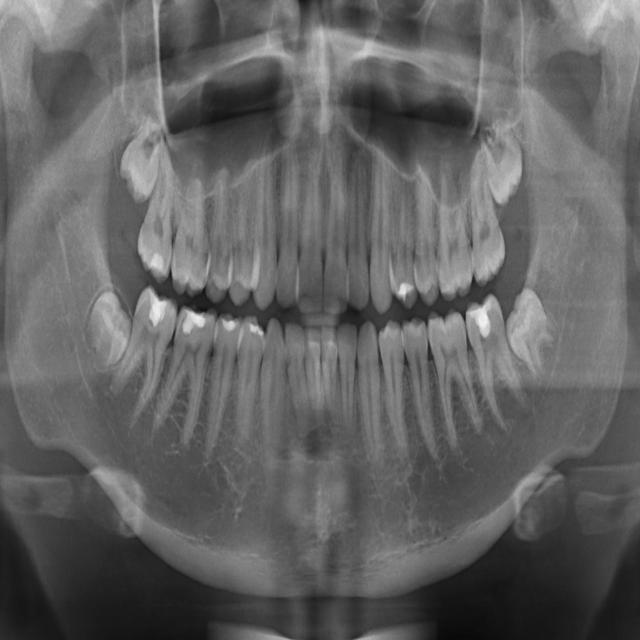CompositeResinRestoration: (468, 296, 492, 351), (182, 307, 209, 342), (144, 291, 168, 328), (148, 248, 167, 278), (248, 318, 264, 348), (396, 280, 416, 302), (220, 316, 238, 338)
